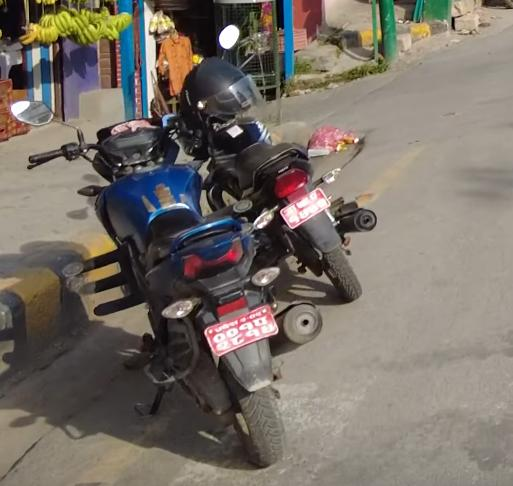bike: (9, 84, 322, 471), (159, 26, 376, 310)
